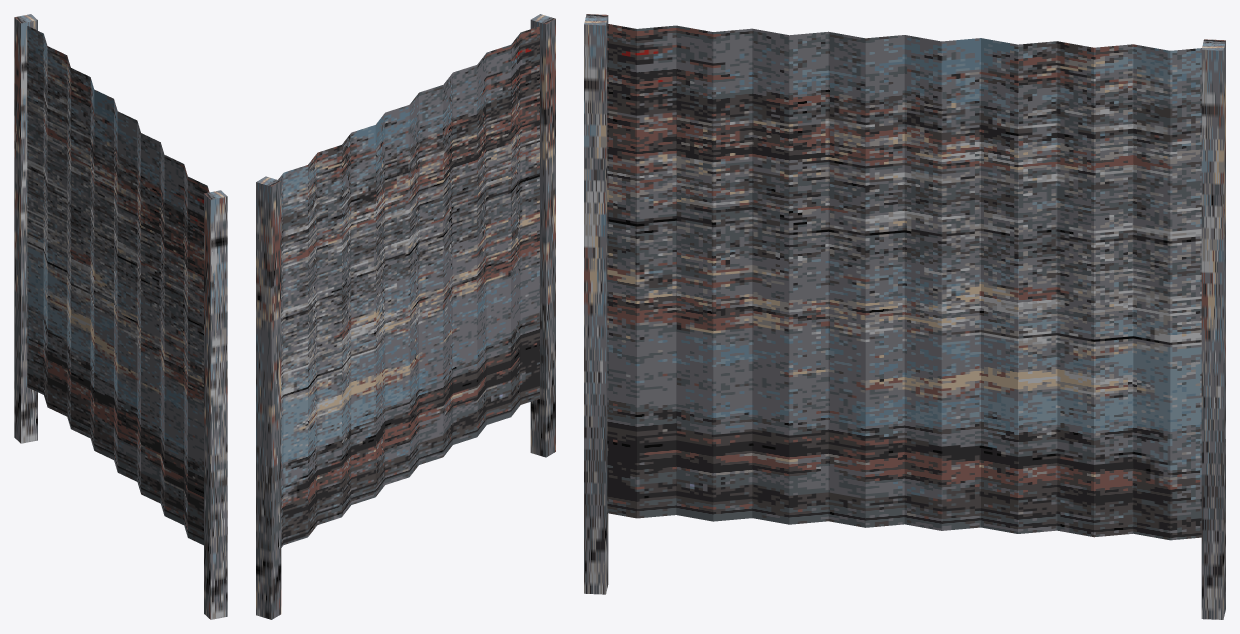
The model's file is BarierFix.fbx.
3 renders of one model, left to right at view 1: azimuth 30°, elevation 25°; view 2: azimuth 150°, elevation 25°; view 3: azimuth 270°, elevation 25°, orthographic. The views are drawn at different scales.
Visible parts, largest first — view 1: pivo; view 2: pivo; view 3: pivo.
Part boxes in pixels (x1,y1,x2,y2): pivo: (14,14,227,619); pivo: (256,14,555,619); pivo: (584,14,1225,619).
Bounding box in the file's own units: 55.45 × 400 × 409.
